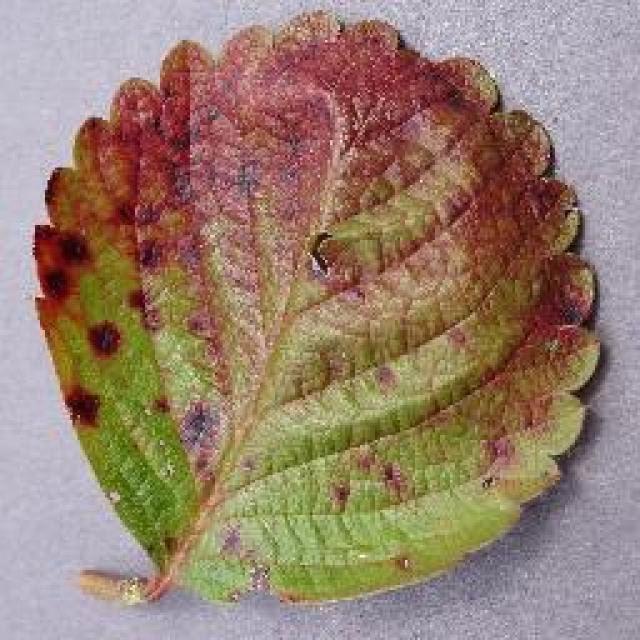Strawberry___Leaf_scorch: (5, 0, 617, 630)
